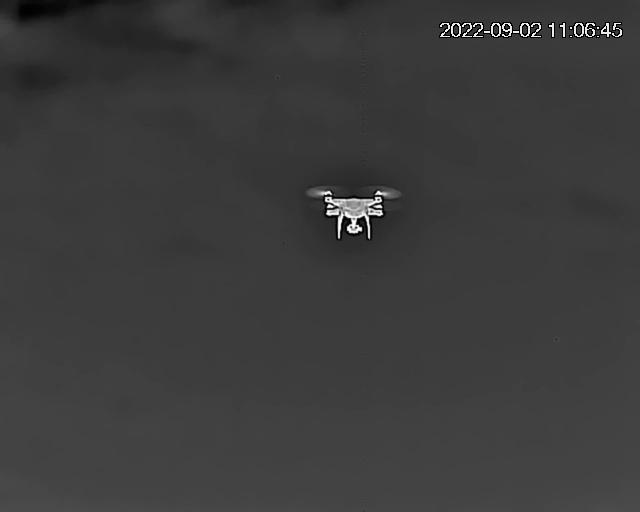DJI-Phantom: (305, 189, 405, 239)
